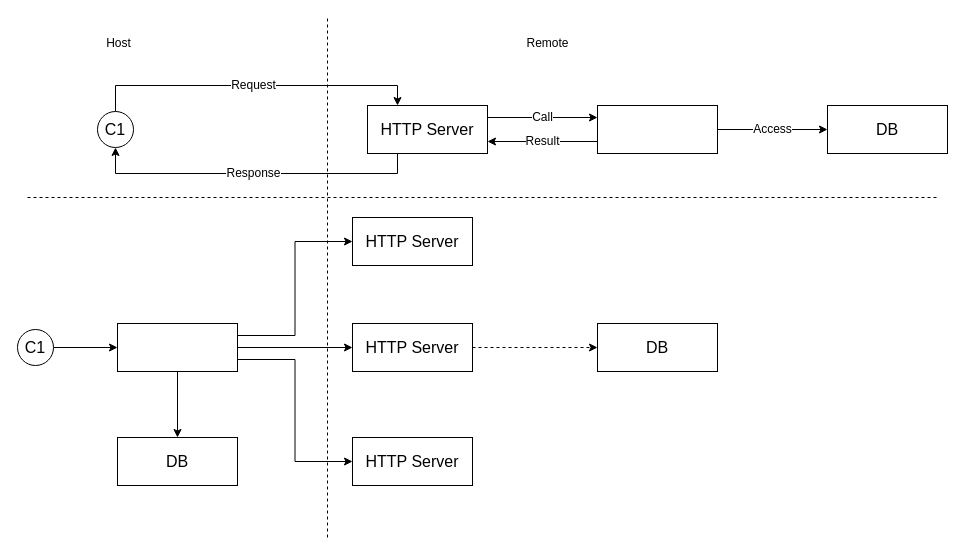
The diagram is 965 pixels wide and 556 high, and some of its shapes have lost their labels. The shapes that lost their labels are listed below. From the top down, each one's centre as x and y in pixels, then its label:
At (657,129): "Service A".
At (177,347): "Proxy".
